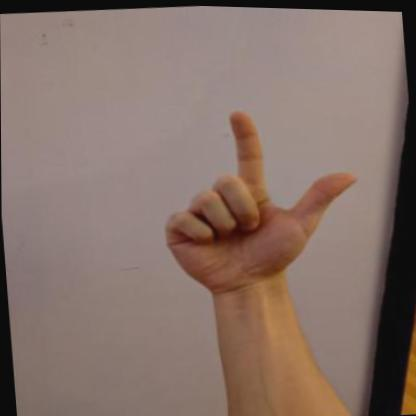L: (148, 94, 372, 307)
